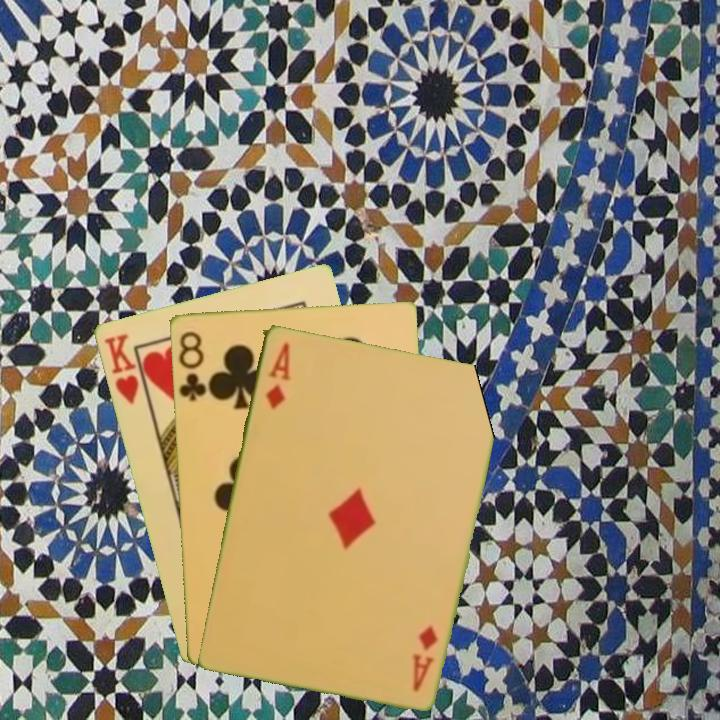8c: (175, 327, 209, 404)
Ad: (409, 621, 440, 694), (262, 338, 292, 411)
Kh: (100, 330, 151, 407)
